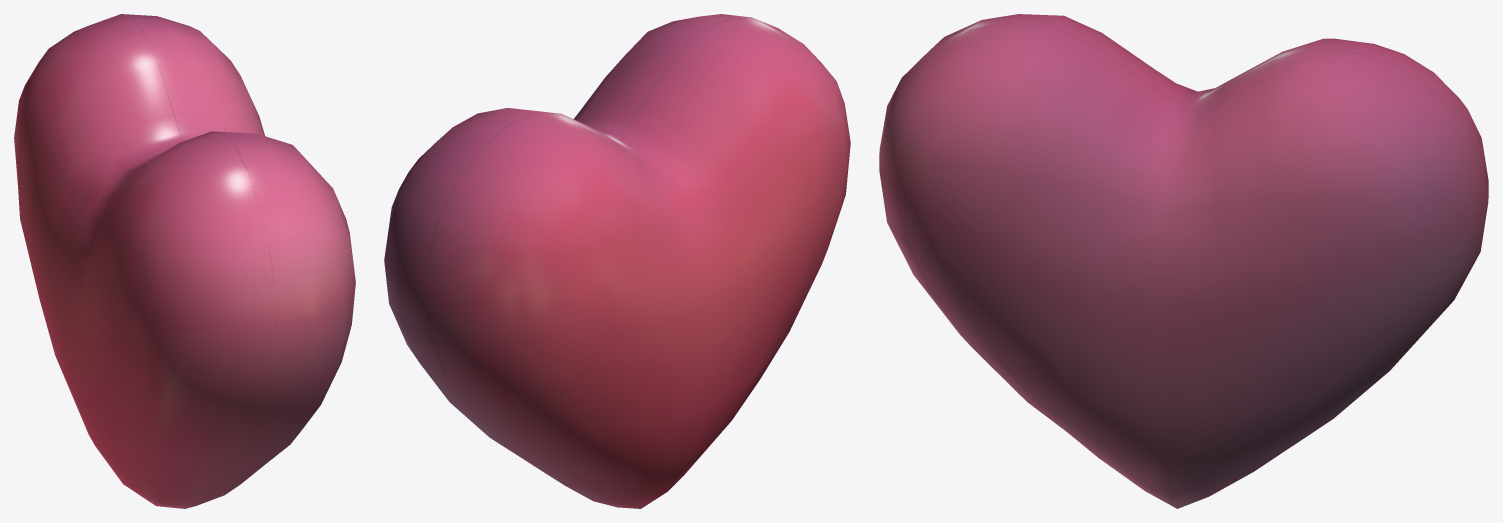
Rendered from Star.FBX.
3 renders of one model, left to right at view 1: azimuth 30°, elevation 25°; view 2: azimuth 150°, elevation 25°; view 3: azimuth 270°, elevation 25°, orthographic. The views are drawn at different scales.
Parts seen in each view (by area): view 1: Star; view 2: Star; view 3: Star.
Part boxes in pixels (box(x1,y1,x2,y2)): Star: box(14, 14, 355, 508); Star: box(384, 14, 850, 508); Star: box(879, 14, 1488, 508).
Bounding box in the file's own units: 49.56 × 76.76 × 91.14.
